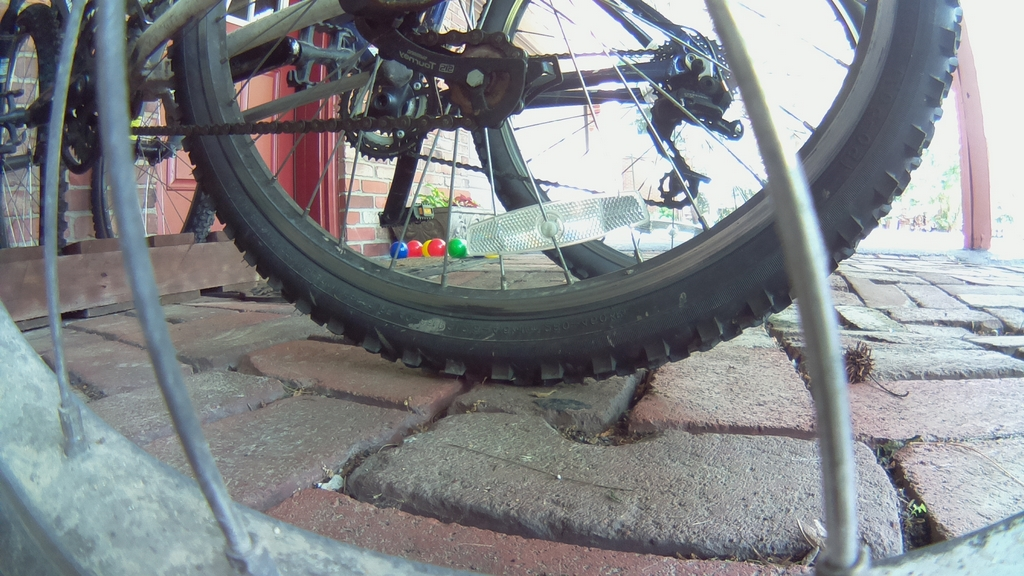ball: (392, 242, 408, 259)
